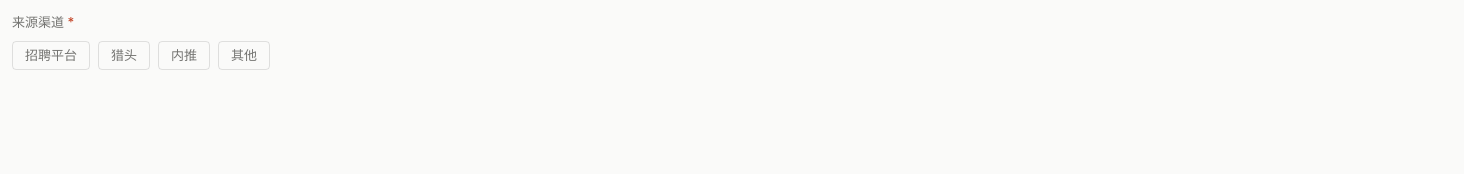
Test: SourceChannelPicker › 点击招聘平台加载标签并显示平台列表
Click the button with class "channel-tab" showing "招聘平台".
click(51, 55)  # box [12,40,90,70]
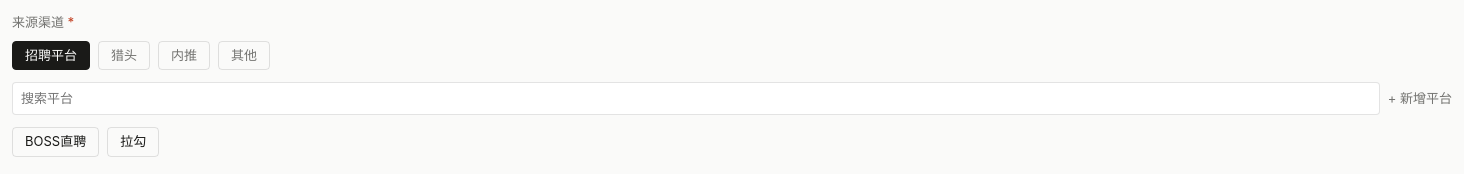
Result: the text "BOSS直聘" is shown at [12,127,99,156]
Result: the text "拉勾" is shown at [107,127,159,156]
